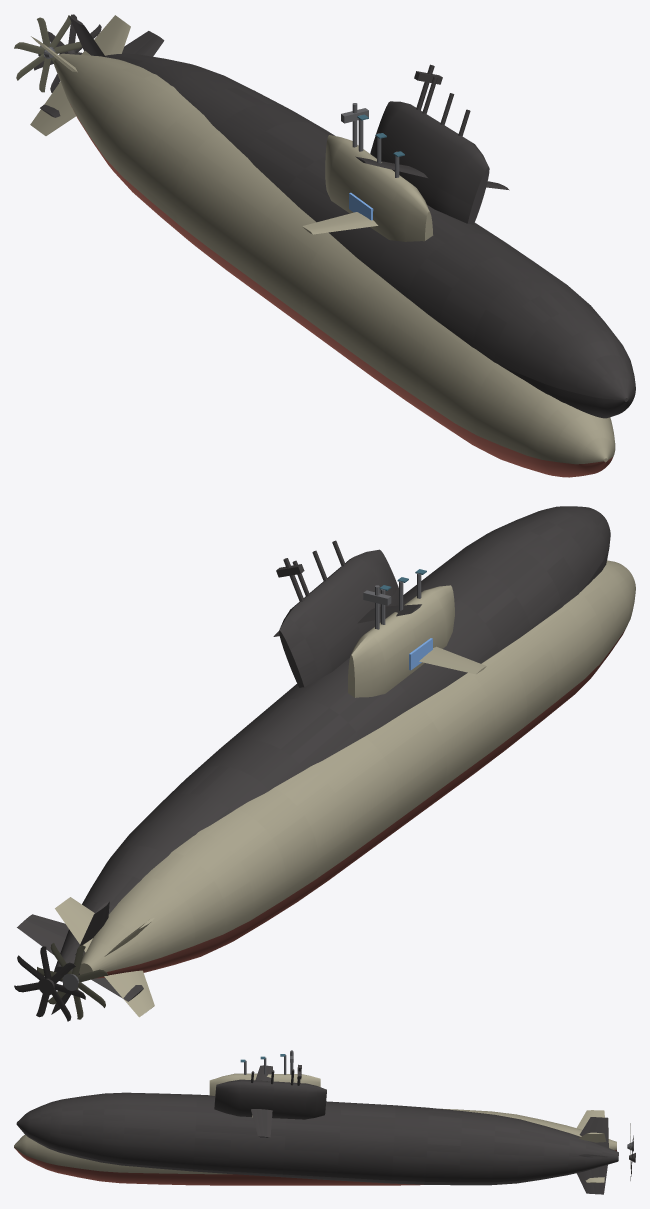
File: submarine__walrus_class.glb
3 views of the same model, one above another, from view 1: azimuth 30°, elevation 25°; view 2: azimuth 150°, elevation 25°; view 3: azimuth 270°, elevation 25° (orthographic). The views are drawn at different scales.
Visible parts, largest first — view 1: Hull_Mesh, Wreck; view 2: Hull_Mesh, Wreck; view 3: Wreck, Hull_Mesh.
Part boxes in pixels (bbox=[...]): Hull_Mesh: bbox=[14, 15, 615, 477]; Wreck: bbox=[34, 14, 635, 418]; Hull_Mesh: bbox=[37, 560, 635, 1019]; Wreck: bbox=[14, 506, 610, 1021]; Wreck: bbox=[16, 1064, 635, 1194]; Hull_Mesh: bbox=[14, 1054, 633, 1185].
Size of what is drawn, in the model's own units: 13.89 by 16.53 by 67.34.
